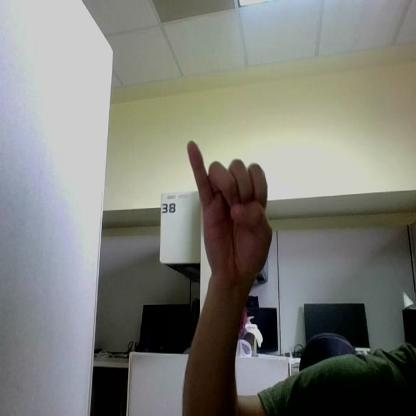I: (188, 140, 272, 272)
